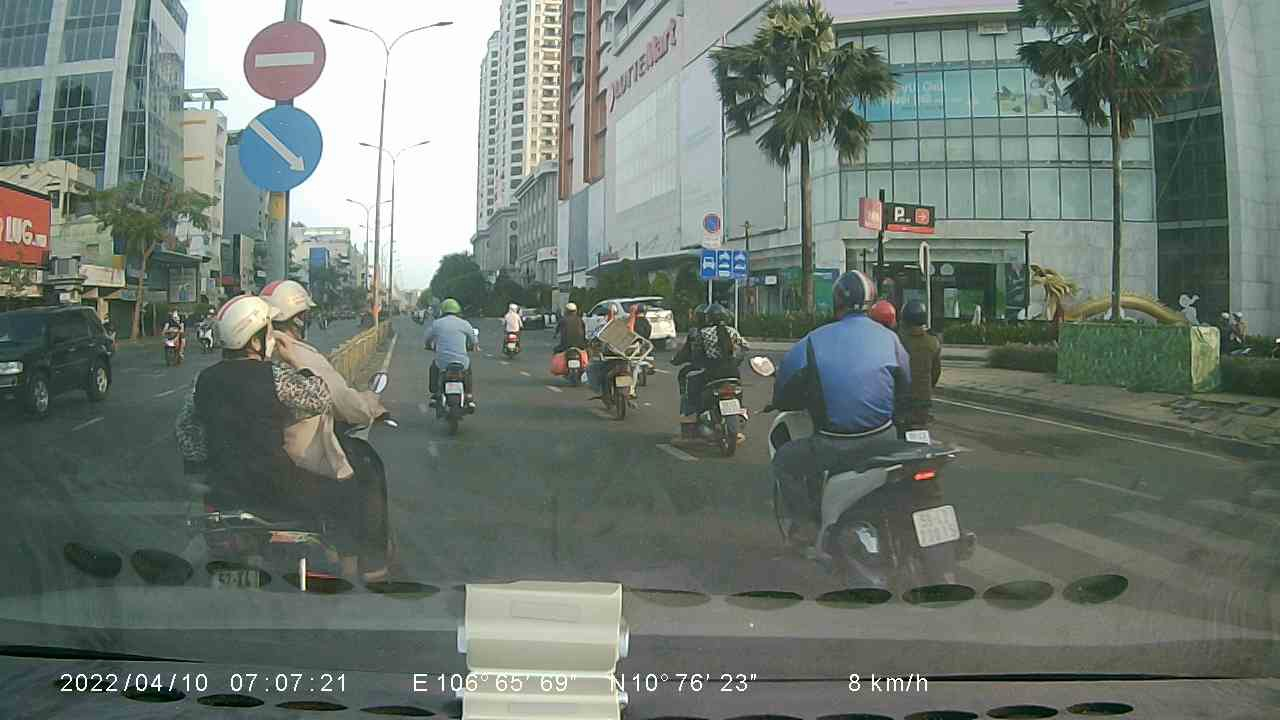Cam di nguoc chieu: (242, 13, 326, 101)
Huong di phai re phai: (233, 105, 329, 191)
